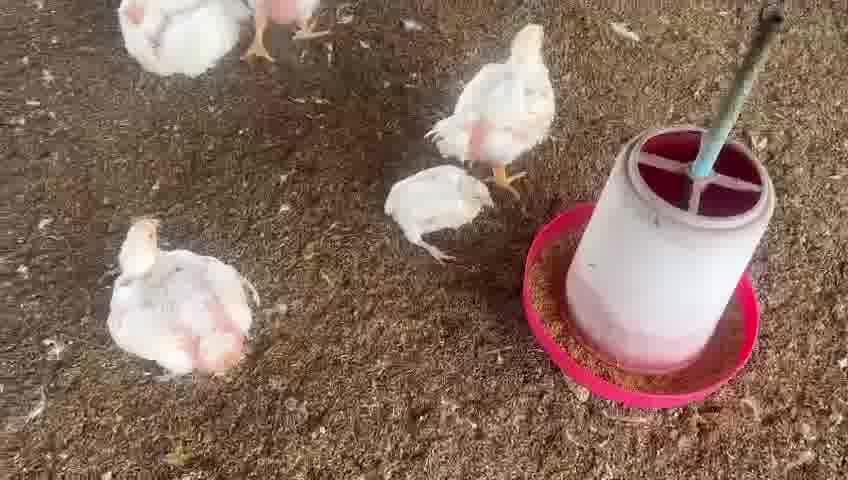AbNormal: (381, 160, 493, 276)
Normal: (100, 220, 264, 396), (425, 21, 569, 175), (112, 0, 250, 92)
